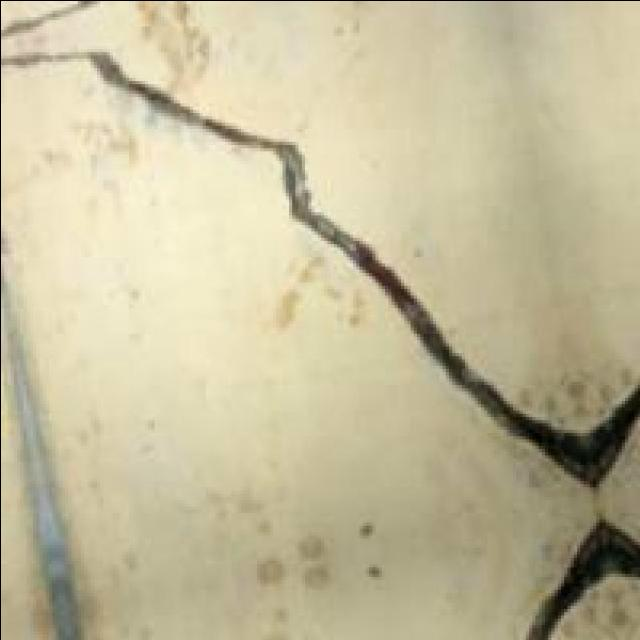SurfaceCrack: (16, 18, 640, 486), (522, 498, 640, 640)
